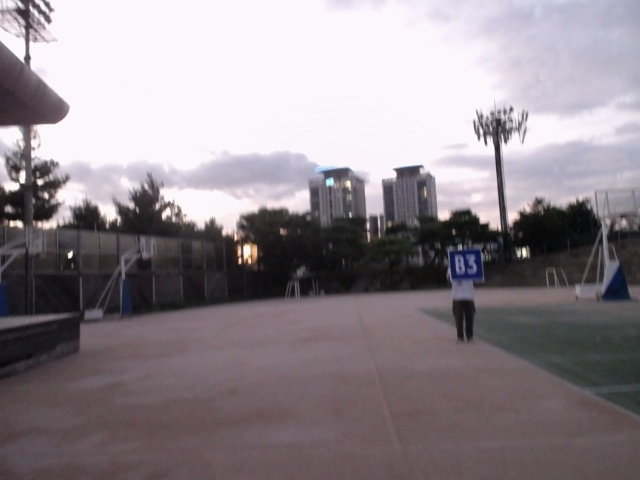delivery_b3: (447, 249, 485, 283)
